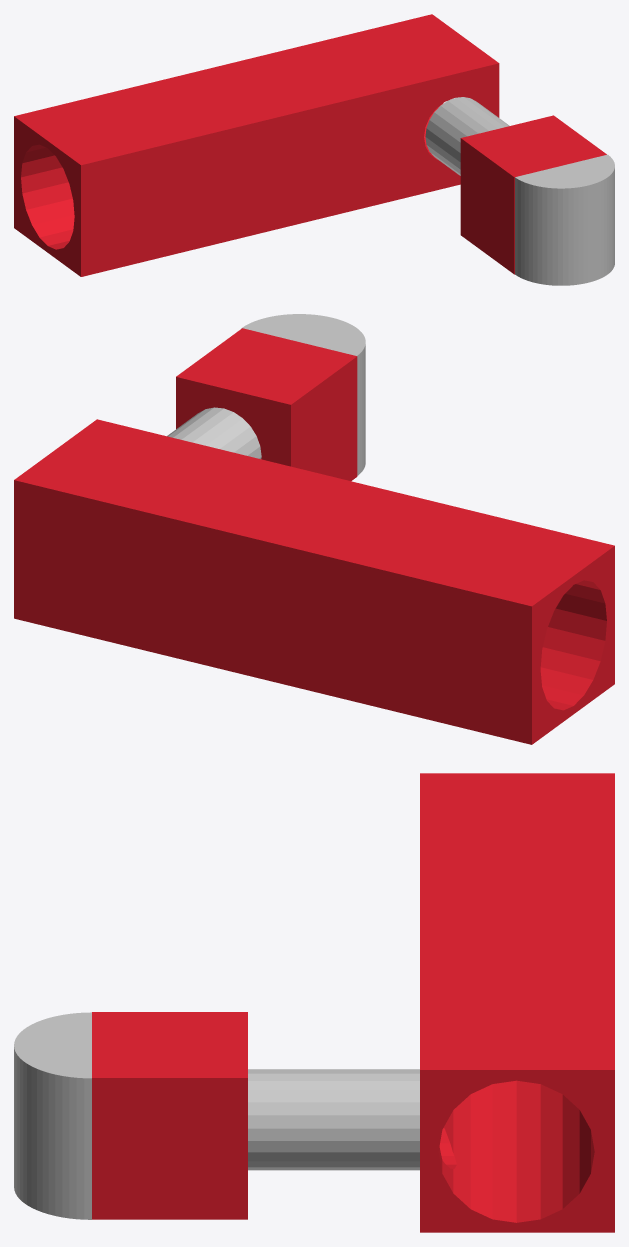
File: tinker.obj
3 views of the same model, one above another, from view 1: azimuth 30°, elevation 25°; view 2: azimuth 150°, elevation 25°; view 3: azimuth 270°, elevation 25° (orthographic). The views are drawn at different scales.
Visible parts, largest first — view 1: group_0_15277357, group_0_7720667, group_0_16089887; view 2: group_0_15277357, group_0_7720667, group_0_16089887; view 3: group_0_15277357, group_0_16089887, group_0_7720667.
Boxes of the visible parts, x1,y1,x2,y2 form: group_0_15277357: (14, 14, 606, 276); group_0_7720667: (515, 154, 614, 285); group_0_16089887: (425, 97, 509, 175); group_0_15277357: (14, 328, 614, 744); group_0_7720667: (241, 314, 365, 475); group_0_16089887: (167, 407, 261, 459); group_0_15277357: (92, 773, 614, 1232); group_0_16089887: (248, 1069, 419, 1170); group_0_7720667: (14, 1012, 91, 1219).
Size of the model in its own units: 90 by 23 by 77.
